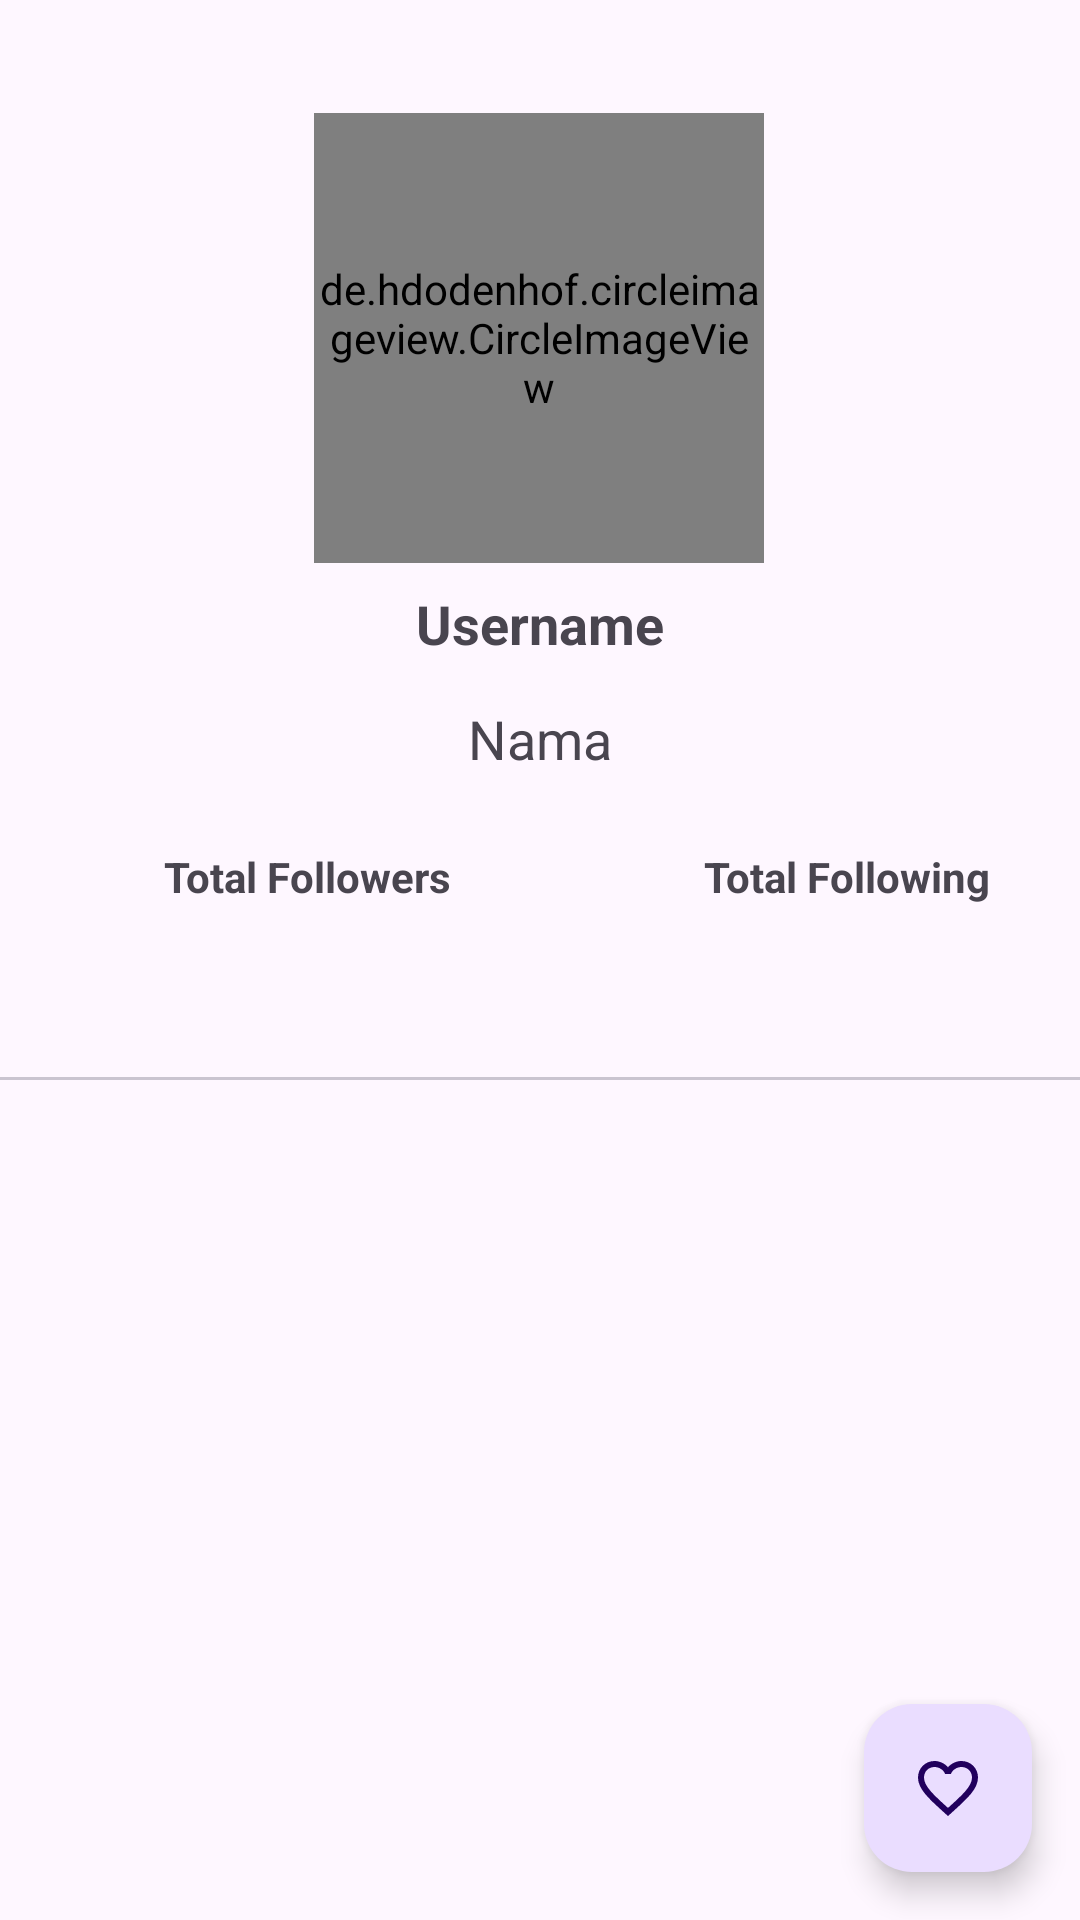

Point at icon controls on the screen. Image size 1080px×1920px, points as (x,y).
favorite border: (948,1788)
